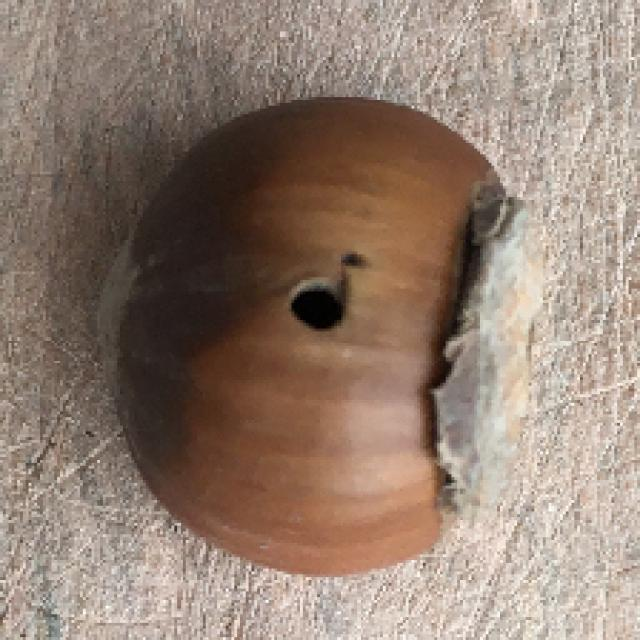damagedHazelnut: (96, 98, 544, 587)
